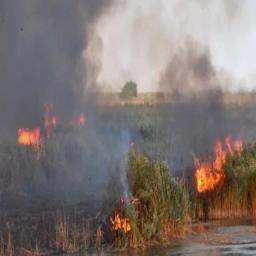Low smoke: (0, 0, 226, 223)
Small fire: (10, 102, 98, 167), (187, 131, 251, 211), (89, 200, 152, 246)
